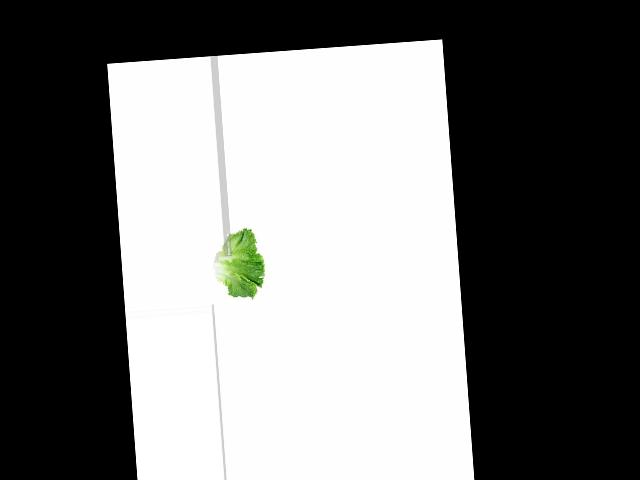lettuce: (210, 230, 265, 300)
